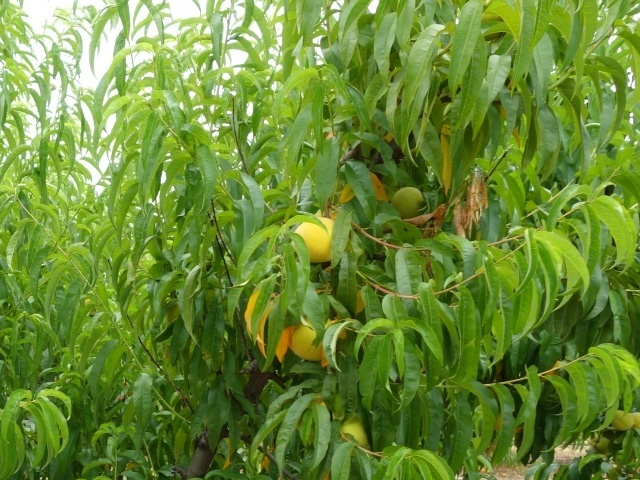peach: (292, 213, 347, 267), (287, 312, 328, 370), (389, 183, 429, 220), (610, 405, 636, 432)
